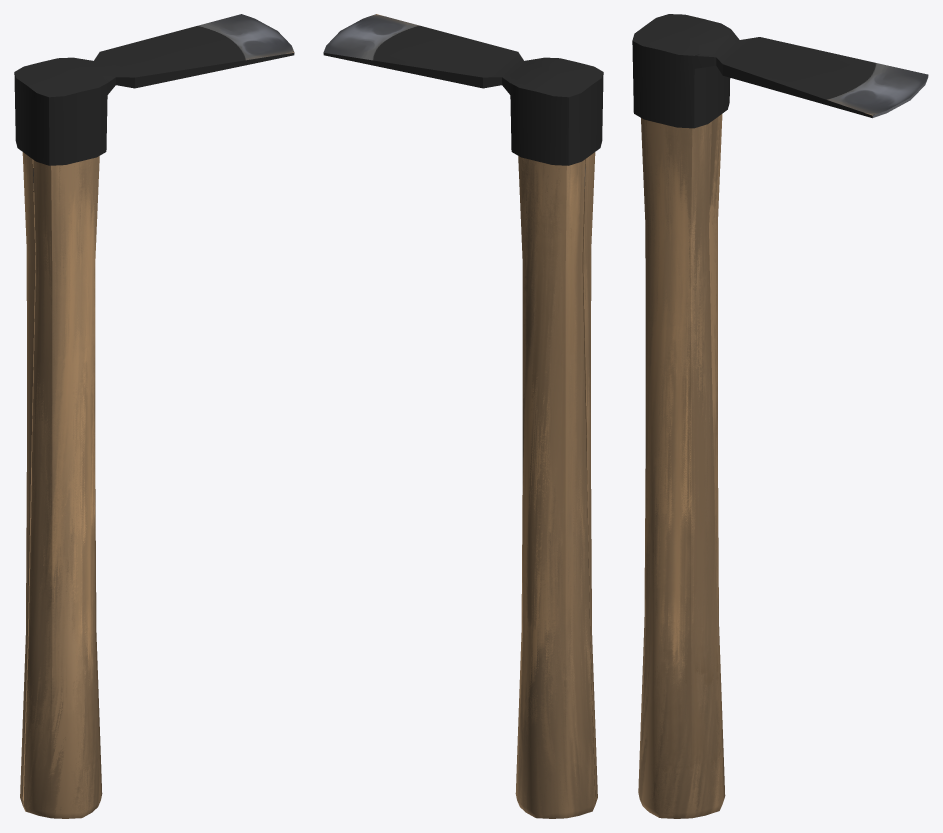
File: Hoe.fbx
3 views of the same model, side by side, from view 1: azimuth 30°, elevation 25°; view 2: azimuth 150°, elevation 25°; view 3: azimuth 330°, elevation 25° (orthographic). The views are drawn at different scales.
Parts seen in each view (by area): view 1: Hoe; view 2: Hoe; view 3: Hoe.
Boxes of the visible parts, x1=… form: Hoe: x1=14, y1=14, x2=294, y2=818; Hoe: x1=323, y1=14, x2=603, y2=818; Hoe: x1=632, y1=14, x2=928, y2=818.
Size of the model in its own units: 38.81 by 106 by 13.95.
